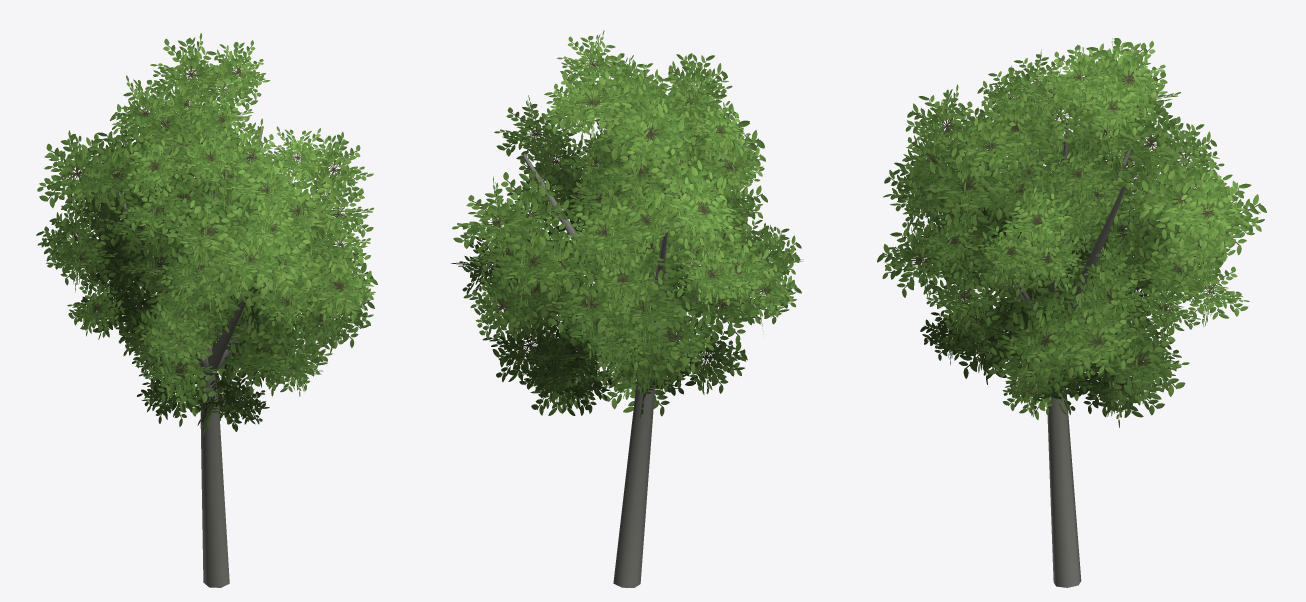
The model's file is tree-haya.glb.
3 renders of one model, left to right at view 1: azimuth 30°, elevation 25°; view 2: azimuth 150°, elevation 25°; view 3: azimuth 270°, elevation 25°, orthographic. The views are drawn at different scales.
Visible parts, largest first — view 1: tree-haya; view 2: tree-haya; view 3: tree-haya.
Part boxes in pixels (left/top/right/bottom): tree-haya: left=36, top=33, right=377, bottom=587; tree-haya: left=451, top=30, right=803, bottom=587; tree-haya: left=877, top=38, right=1266, bottom=587.
Bounding box in the file's own units: 16.13 × 24.76 × 17.69.
Materials: 2 (1 with a texture image).
